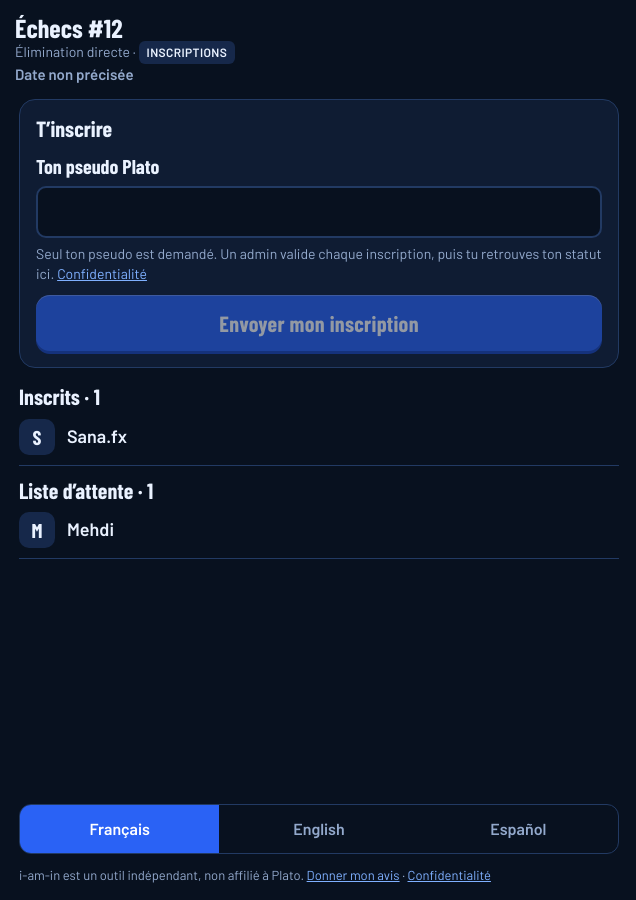
it: page publique › inscrit le joueur, garde son lien personnel sur l’appareil et affiche son statut
Type "  Karim_77 " into the field labelled "Ton pseudo Plato". click: (319, 212)
box: [36,186,602,238]
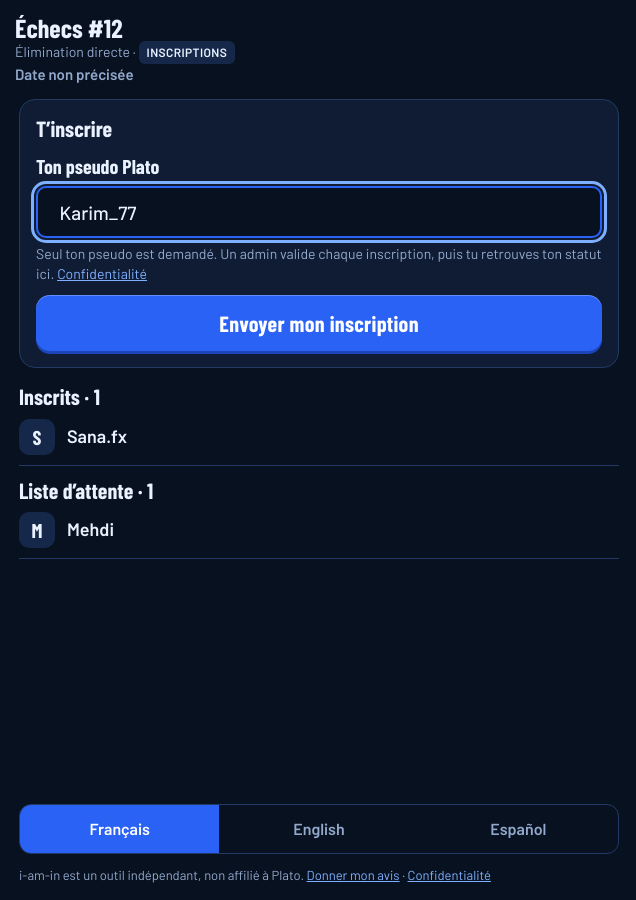
Click the button "Envoyer mon inscription". click: (319, 324)
box: [36,296,602,352]
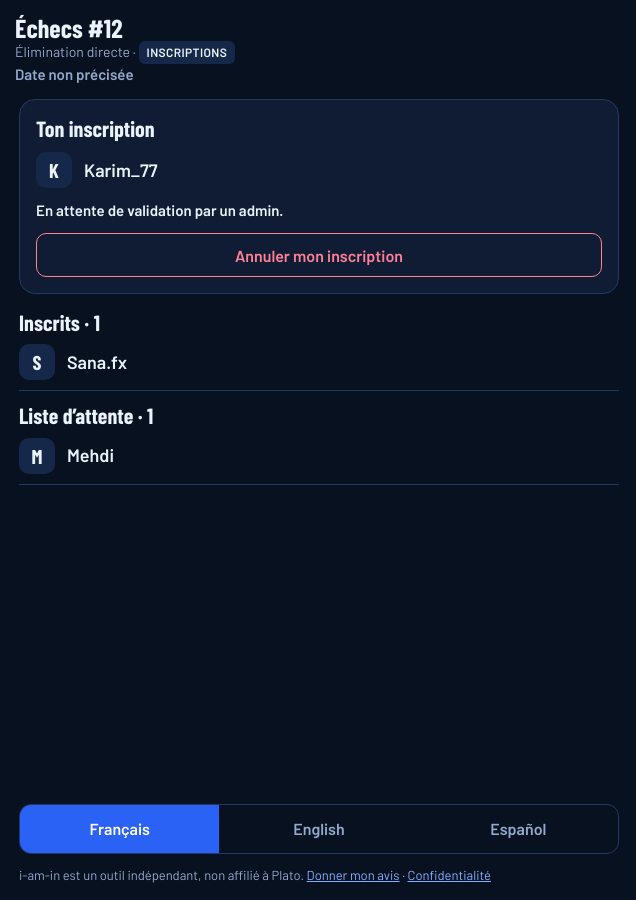
Check: the text "En attente de validation par un admin." is shown, box [36,201,283,219]
